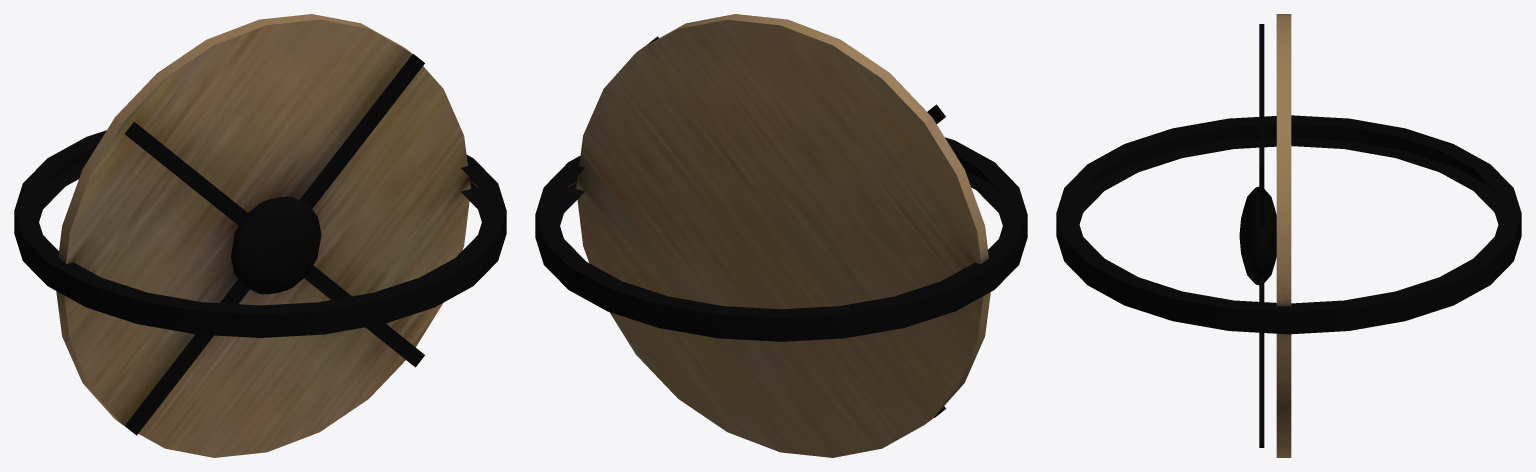
Rendered from shield.glb.
3 views of the same model, side by side, from view 1: azimuth 30°, elevation 25°; view 2: azimuth 150°, elevation 25°; view 3: azimuth 270°, elevation 25° (orthographic). The views are drawn at different scales.
Visible parts, largest first — view 1: band0; view 2: band0; view 3: band0.
Part boxes in pixels (bbox=[...]): band0: bbox=[14, 14, 506, 457]; band0: bbox=[535, 14, 1027, 457]; band0: bbox=[1056, 14, 1521, 457].
Size of the model in its own units: 0.94 by 0.9 by 0.94.
Materials: 1 (1 with a texture image).
